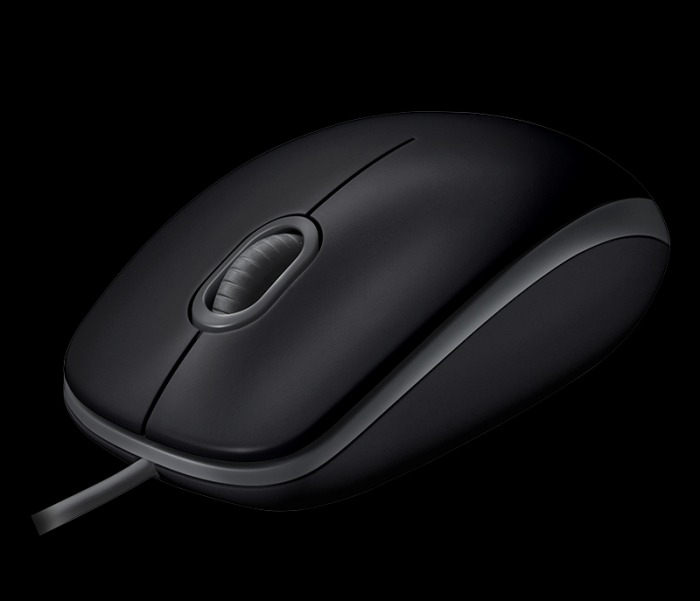mouse: (52, 103, 676, 533)
